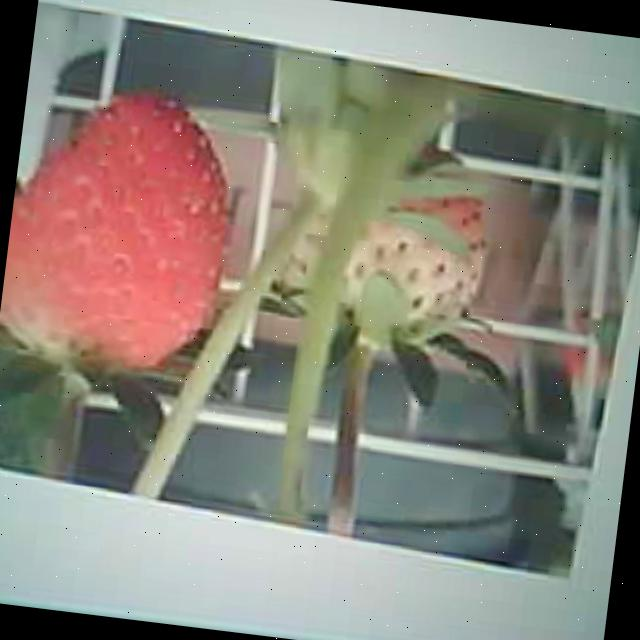strawberry: (0, 77, 241, 395), (274, 136, 493, 362)
